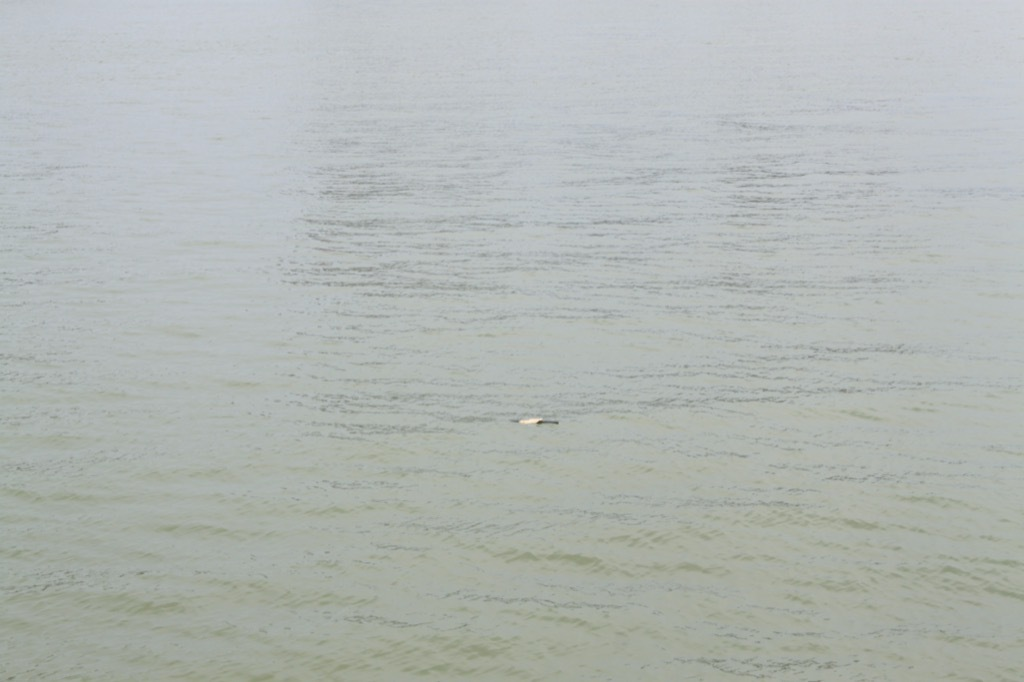plastic: (495, 400, 577, 440)
